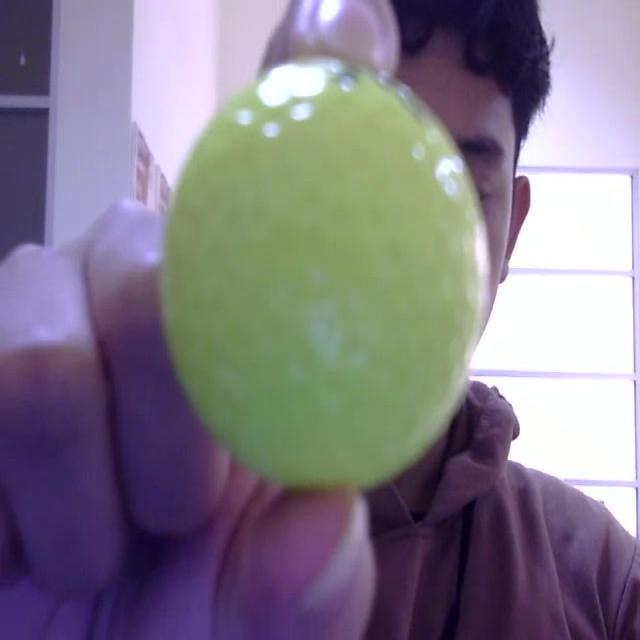golfball: (162, 59, 486, 487)
